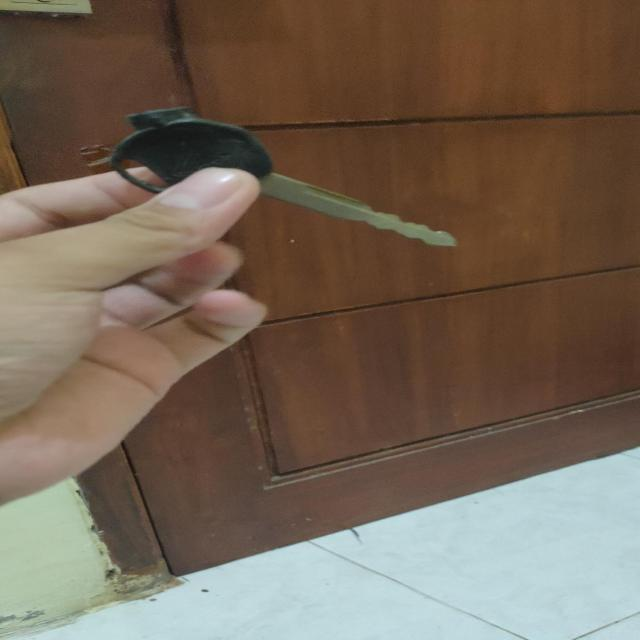kunci_motor: (92, 92, 467, 256)
